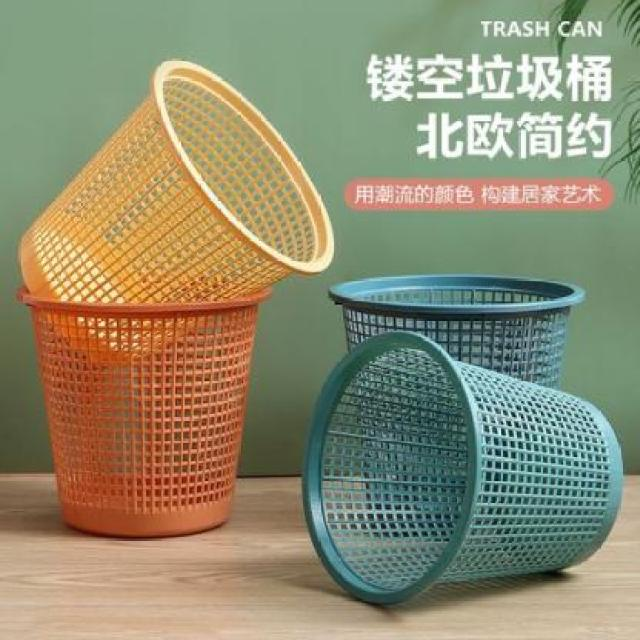dustbin: (12, 51, 340, 372), (297, 324, 631, 616), (11, 269, 281, 541), (323, 268, 591, 537)
